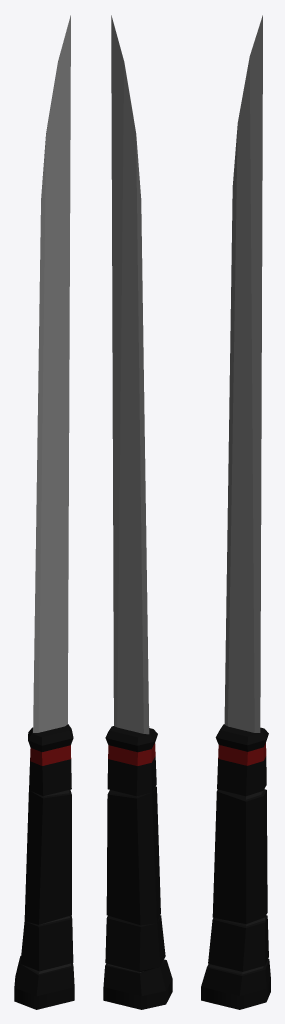
Rendered from Sword_4.FBX.
The picture shows the model from 3 angles, left to right: view 1: azimuth 30°, elevation 25°; view 2: azimuth 150°, elevation 25°; view 3: azimuth 330°, elevation 25°; orthographic projection.
Visible parts, largest first — view 1: Cylinder003; view 2: Cylinder003; view 3: Cylinder003.
Boxes of the visible parts, bbox=[...] form: Cylinder003: bbox=[14, 15, 74, 1009]; Cylinder003: bbox=[103, 15, 172, 1009]; Cylinder003: bbox=[201, 15, 270, 1009].
Size of the model in its own units: 2.35 by 37.63 by 1.82.
